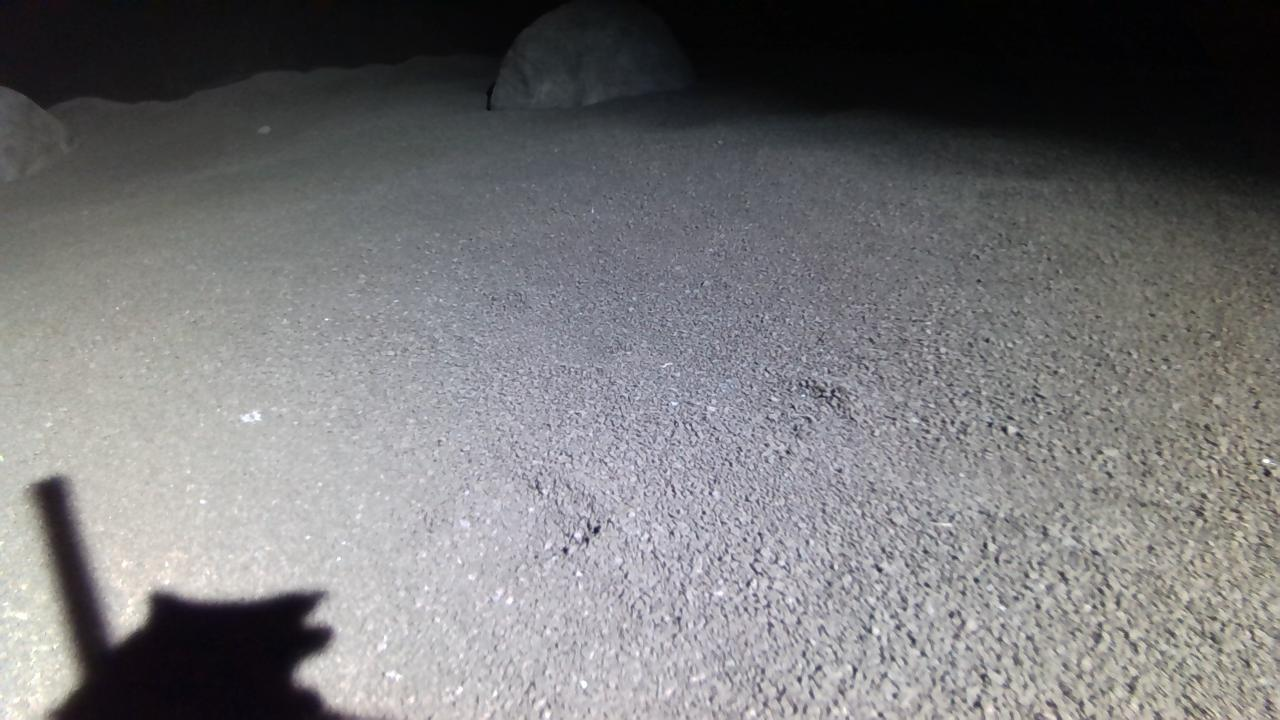rock: (491, 0, 695, 108)
